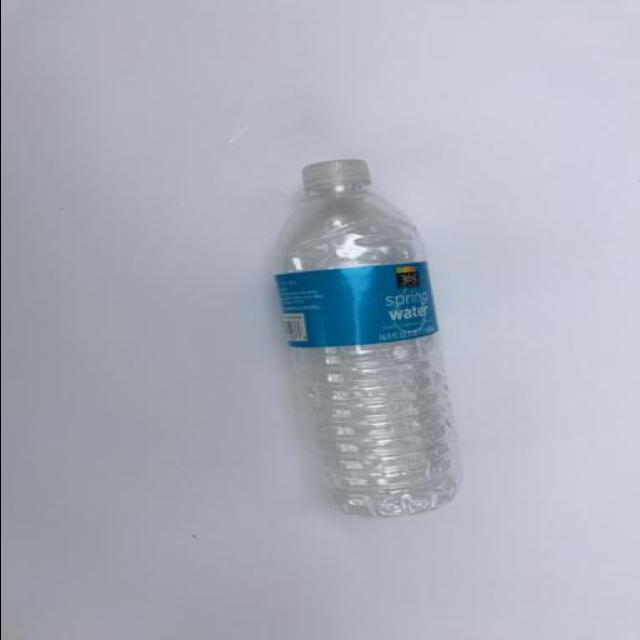litter: (270, 151, 472, 521)
